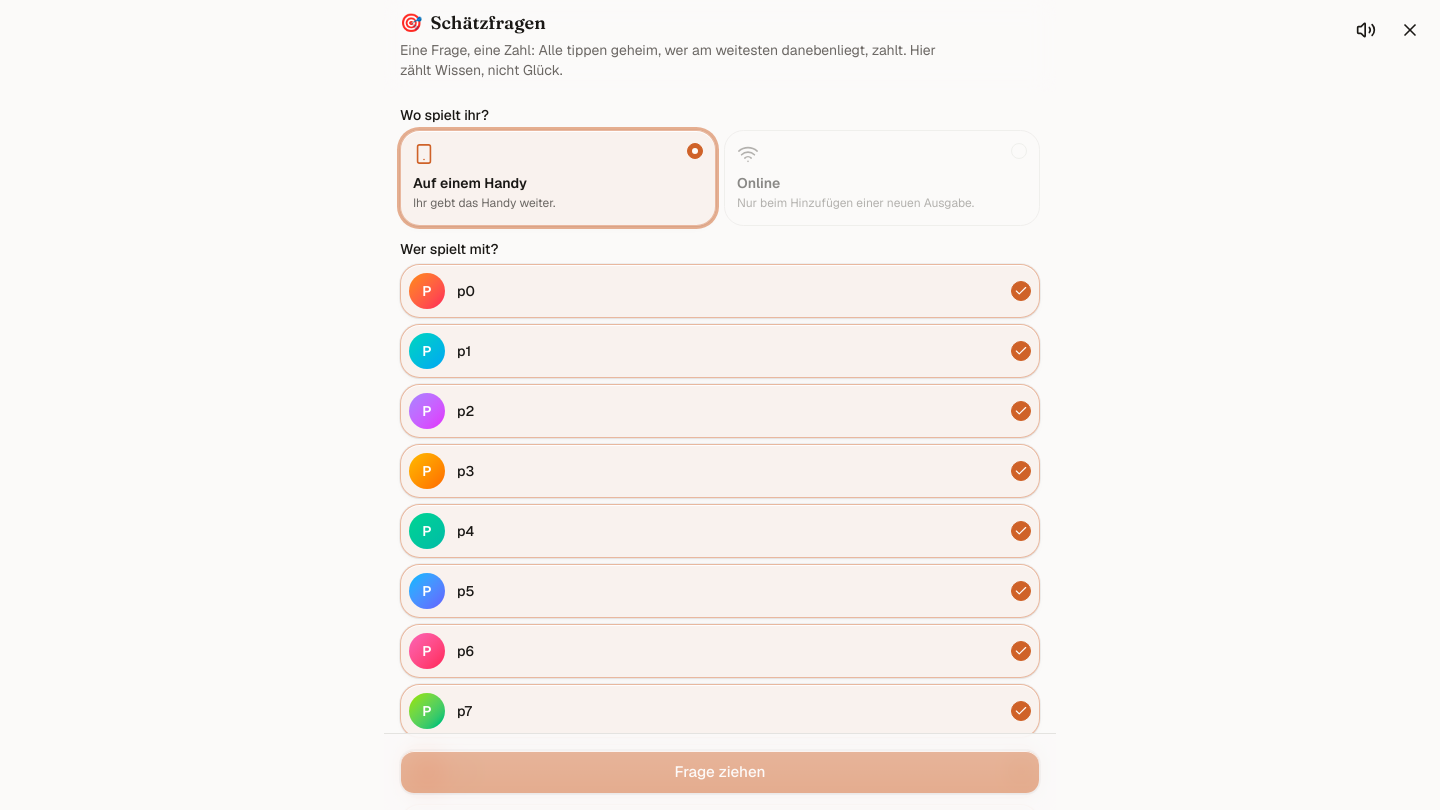
Test case: SplitEstimateDialog › too many players › starts again once the pool is small enough
The image size is (1440, 810).
Click the checkbox labelled "p0" at (427, 291), box [400,264,1040,318]
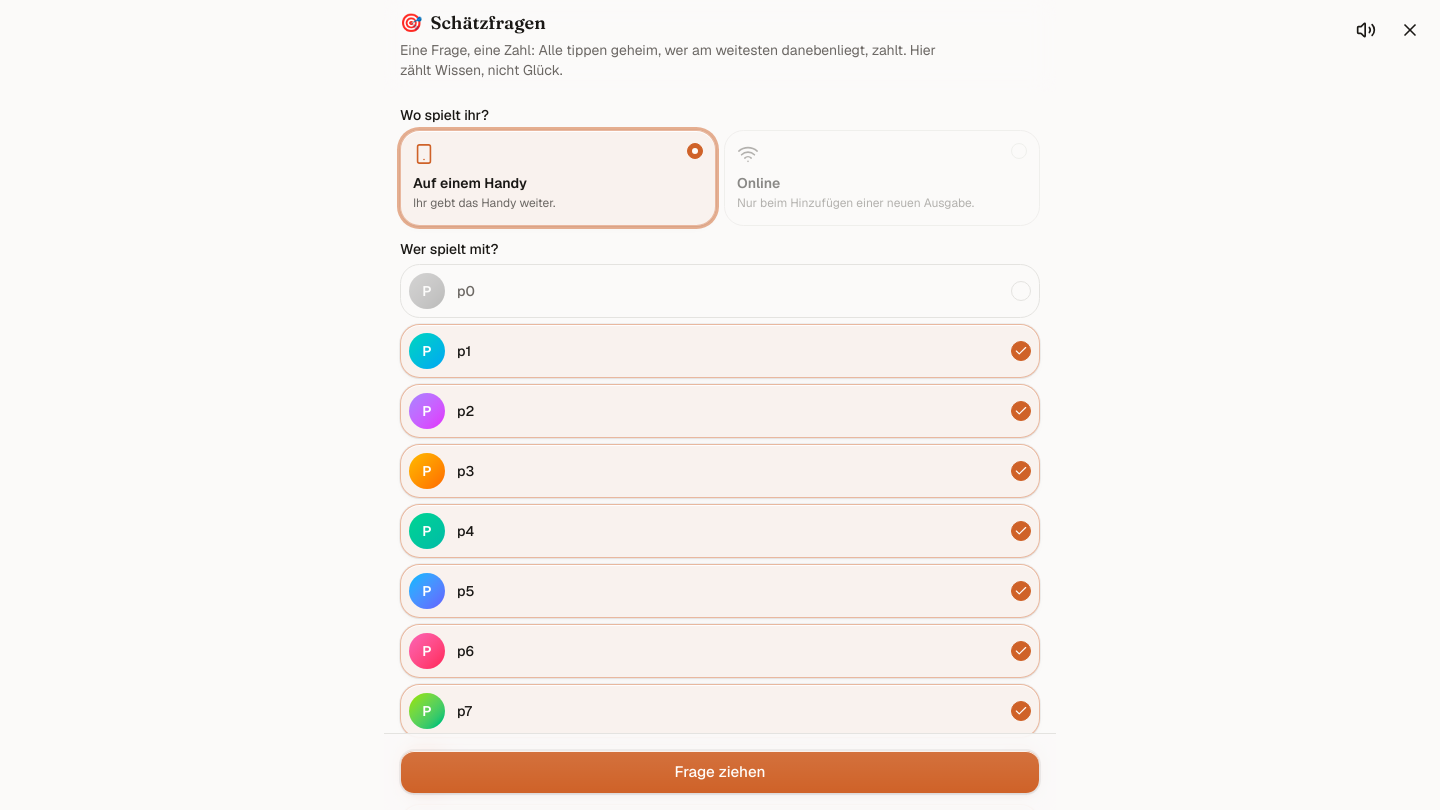
Now the button "Frage ziehen" is enabled, box [400,750,1040,794]
